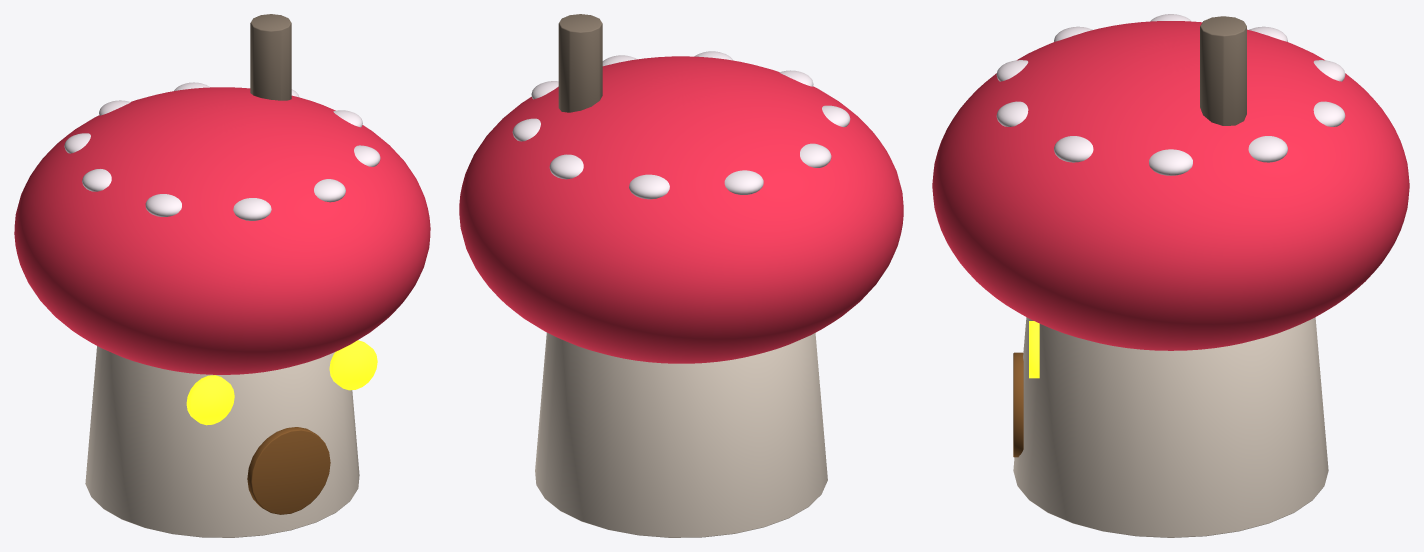
The model's file is rumah-jamur.glb.
3 renders of one model, left to right at view 1: azimuth 30°, elevation 25°; view 2: azimuth 150°, elevation 25°; view 3: azimuth 270°, elevation 25°, orthographic. The views are drawn at different scales.
Visible parts, largest first — view 1: Sphere, Cone, Cylinder, Cylinder.003, Cylinder.001, Cylinder.002, Sphere.008, Sphere.007, Sphere.009, Sphere.006; view 2: Sphere, Cone, Cylinder.003, Sphere.004, Sphere.005, Sphere.003, Sphere.006; view 3: Sphere, Cone, Cylinder.003, Cylinder, Sphere.001, Sphere.002, Sphere.010, Sphere.003, Sphere.009, Cylinder.002.
Part boxes in pixels (x1,y1,x2,y2): Sphere: (14, 87, 430, 374); Cone: (85, 346, 359, 537); Cylinder: (247, 427, 330, 514); Cylinder.003: (250, 14, 291, 100); Cylinder.001: (186, 375, 234, 425); Cylinder.002: (329, 340, 377, 390); Sphere.008: (233, 198, 271, 220); Sphere.007: (145, 194, 181, 216); Sphere.009: (314, 179, 345, 202); Sphere.006: (82, 169, 111, 191); Sphere: (459, 56, 903, 363); Cone: (535, 332, 827, 537); Cylinder.003: (558, 14, 602, 112); Sphere.004: (629, 174, 669, 199); Sphere.005: (724, 170, 763, 194); Sphere.003: (549, 154, 583, 179); Sphere.006: (800, 143, 831, 167); Sphere: (932, 21, 1409, 350); Cone: (1013, 317, 1328, 537); Cylinder.003: (1200, 16, 1246, 125); Cylinder: (1013, 352, 1023, 457); Sphere.001: (1149, 149, 1192, 175); Sphere.002: (1248, 136, 1287, 162); Sphere.010: (1054, 136, 1093, 162); Sphere.003: (1313, 101, 1345, 126); Sphere.009: (996, 101, 1028, 126); Cylinder.002: (1029, 321, 1039, 378).
Bounding box in the file's own units: 9.08 × 10.2 × 9.08.
